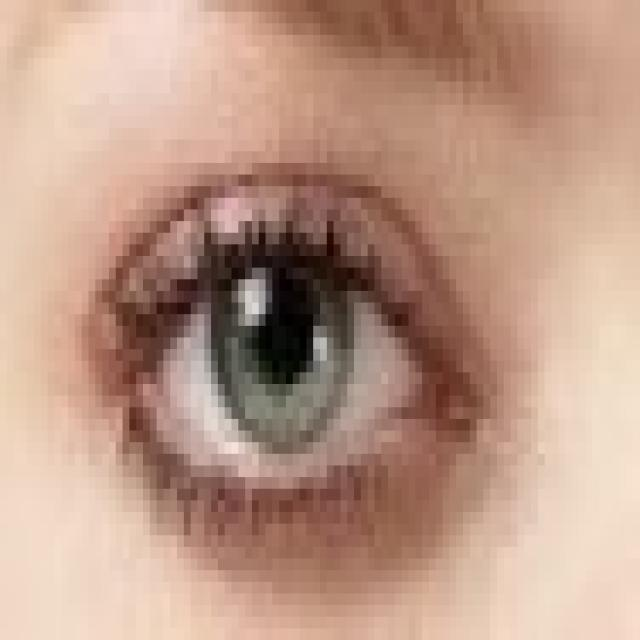Normal: (211, 196, 357, 457)
